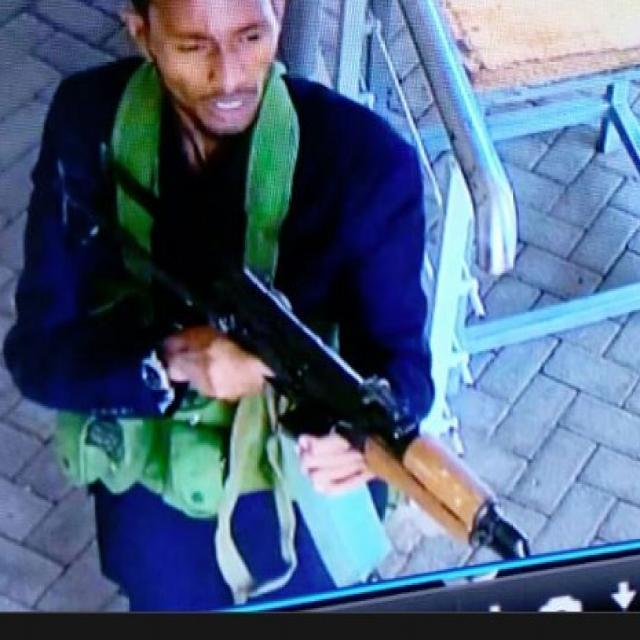weapon: (94, 137, 537, 568)
